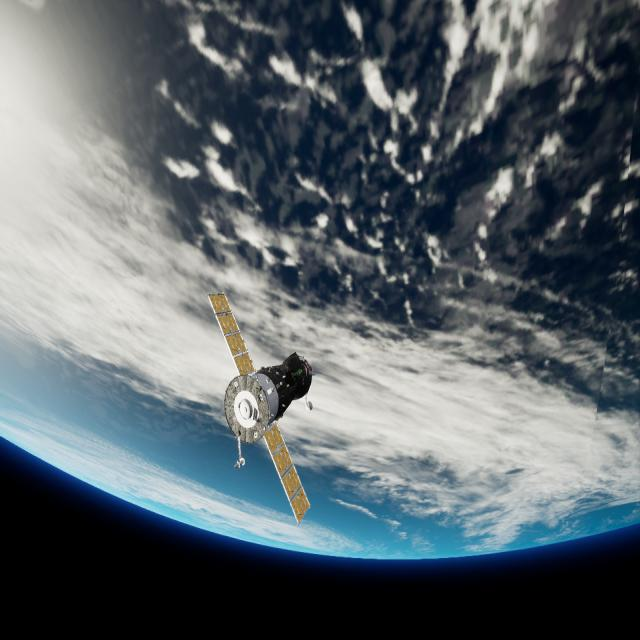Satellites revolving around earth: (205, 288, 313, 527)
